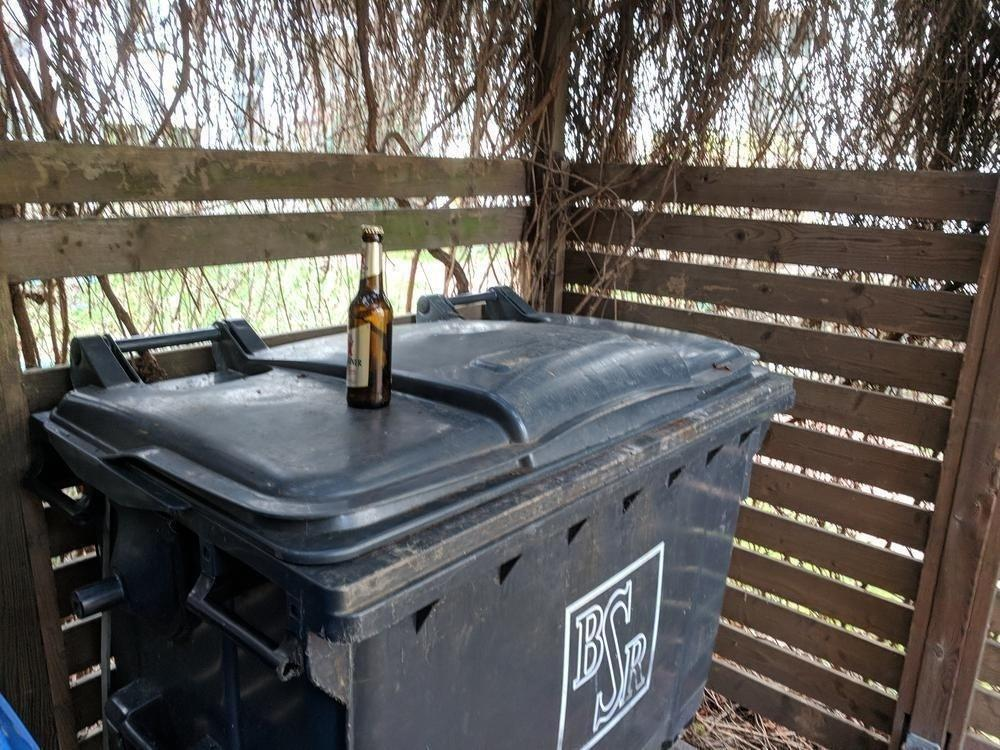bottle-glass: (344, 223, 394, 412)
